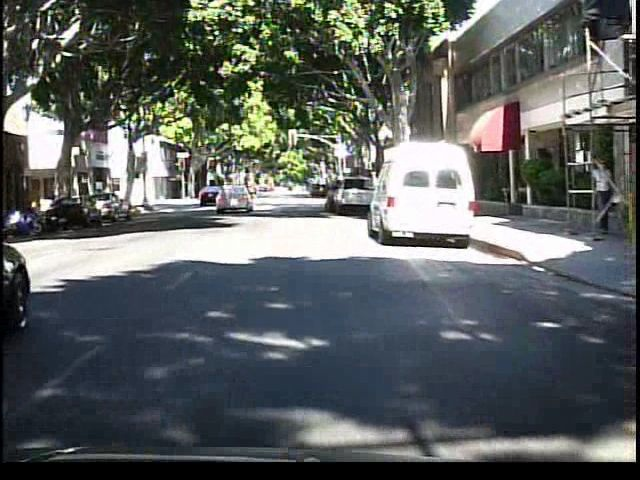person: (585, 154, 614, 237), (241, 176, 260, 208)
